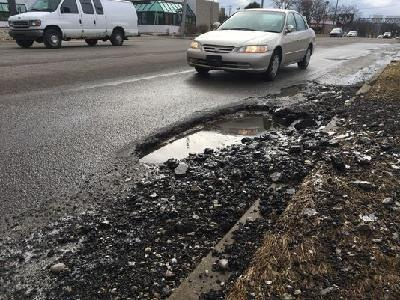pothole: (132, 100, 288, 167), (265, 79, 311, 100)
